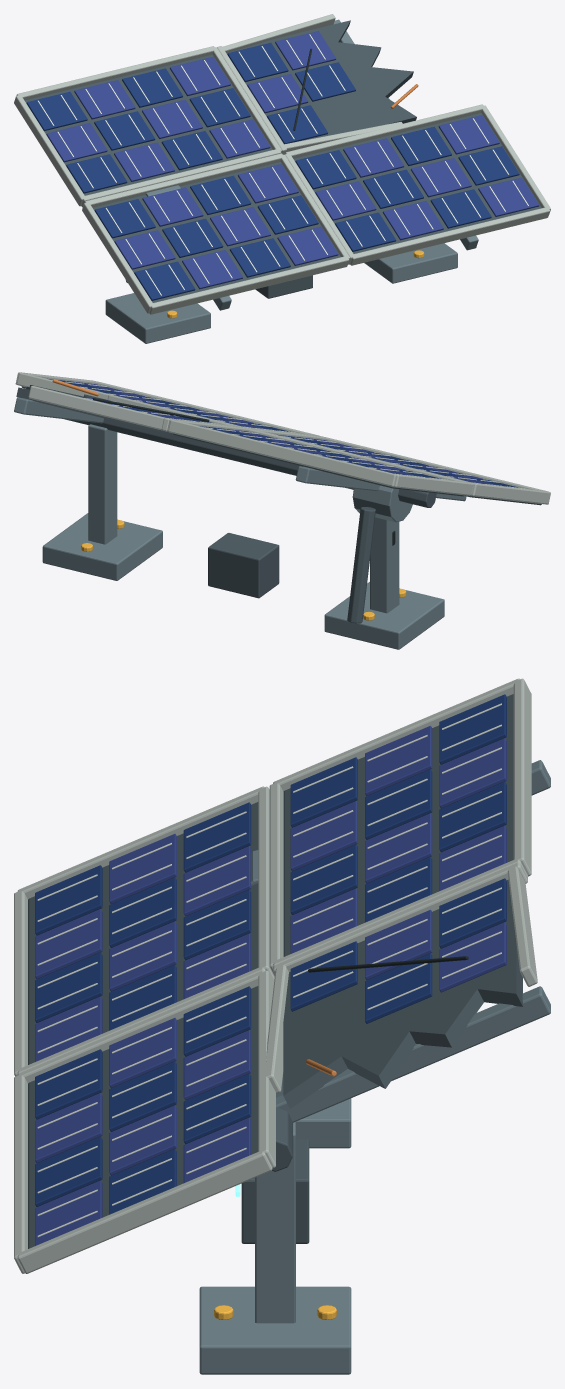
Rendered from solar_panel_rack_d1.glb.
3 renders of one model, top to bottom at view 1: azimuth 30°, elevation 25°; view 2: azimuth 150°, elevation 25°; view 3: azimuth 270°, elevation 25°, orthographic. The views are drawn at different scales.
Parts seen in each view (by area): view 1: JAGGED_PV_BACKING, PV_BACKING_002, PV_BACKING_001, PV_BACKING, RACK_ANCHOR_FOOTING, PANEL_ALUMINUM_END_FRAME, PANEL_ALUMINUM_END_FRAME_004, RACK_ANCHOR_FOOTING_001, PANEL_ALUMINUM_END_FRAME_003, PANEL_ALUMINUM_END_FRAME_005, PANEL_ALUMINUM_END_FRAME_001, PHOTOVOLTAIC_CELL_021 (+51 smaller); view 2: RACK_ANCHOR_FOOTING_001, RACK_ANCHOR_FOOTING, RACK_JUNCTION_BOX, TRACKING_SUPPORT_MAST_001, PANEL_ALUMINUM_END_FRAME_003, TRACKING_AXLE, TRACKING_SUPPORT_MAST, TORN_ALUMINUM_FRAME_001, TILT_ACTUATOR, TRACKING_DRIVE, REAR_MOUNTING_RAIL, PANEL_ALUMINUM_SIDE_FRAME_003 (+10 smaller); view 3: JAGGED_PV_BACKING, RACK_ANCHOR_FOOTING_001, TRACKING_SUPPORT_MAST_001, PANEL_ALUMINUM_SIDE_FRAME_006, REAR_MOUNTING_RAIL_001, PV_BACKING_001, PV_BACKING_002, PV_BACKING, PANEL_ALUMINUM_END_FRAME_003, PHOTOVOLTAIC_CELL_029, PHOTOVOLTAIC_CELL_002, PHOTOVOLTAIC_CELL_026 (+54 smaller).
Part boxes in pixels (box(x1,y1,x2,y2)): JAGGED_PV_BACKING: box(226, 20, 416, 141); PV_BACKING_002: box(293, 112, 541, 253); PV_BACKING_001: box(24, 54, 272, 195); PV_BACKING: box(92, 161, 340, 302); RACK_ANCHOR_FOOTING: box(105, 293, 210, 343); PANEL_ALUMINUM_END_FRAME: box(149, 256, 349, 314); PANEL_ALUMINUM_END_FRAME_004: box(350, 207, 549, 265); RACK_ANCHOR_FOOTING_001: box(364, 243, 457, 283); PANEL_ALUMINUM_END_FRAME_003: box(16, 46, 214, 99); PANEL_ALUMINUM_END_FRAME_005: box(285, 104, 483, 158); PANEL_ALUMINUM_END_FRAME_001: box(84, 153, 282, 207); PHOTOVOLTAIC_CELL_021: box(209, 119, 270, 158); RACK_ANCHOR_FOOTING_001: box(42, 513, 162, 580); RACK_ANCHOR_FOOTING: box(324, 582, 444, 649); RACK_JUNCTION_BOX: box(208, 533, 279, 598); TRACKING_SUPPORT_MAST_001: box(88, 424, 117, 544); PANEL_ALUMINUM_END_FRAME_003: box(168, 419, 396, 486); TRACKING_AXLE: box(64, 418, 436, 507); TRACKING_SUPPORT_MAST: box(370, 517, 399, 613); TORN_ALUMINUM_FRAME_001: box(28, 386, 167, 430); TILT_ACTUATOR: box(347, 507, 375, 623); TRACKING_DRIVE: box(352, 485, 412, 522); REAR_MOUNTING_RAIL: box(295, 466, 466, 501); PANEL_ALUMINUM_SIDE_FRAME_003: box(394, 474, 473, 495); JAGGED_PV_BACKING: box(283, 879, 522, 1108); RACK_ANCHOR_FOOTING_001: box(199, 1286, 351, 1374); TRACKING_SUPPORT_MAST_001: box(255, 1122, 295, 1323); PANEL_ALUMINUM_SIDE_FRAME_006: box(17, 1151, 272, 1273); REAR_MOUNTING_RAIL_001: box(276, 986, 550, 1122); PV_BACKING_001: box(283, 694, 513, 956); PV_BACKING_002: box(28, 986, 258, 1248); PV_BACKING: box(28, 802, 258, 1064); PANEL_ALUMINUM_END_FRAME_003: box(513, 678, 531, 876); PHOTOVOLTAIC_CELL_029: box(183, 1030, 251, 1100); PHOTOVOLTAIC_CELL_002: box(183, 802, 251, 872); PHOTOVOLTAIC_CELL_026: box(183, 986, 251, 1056).
Size of the model in its own units: 4.89 by 2.31 by 3.01.
